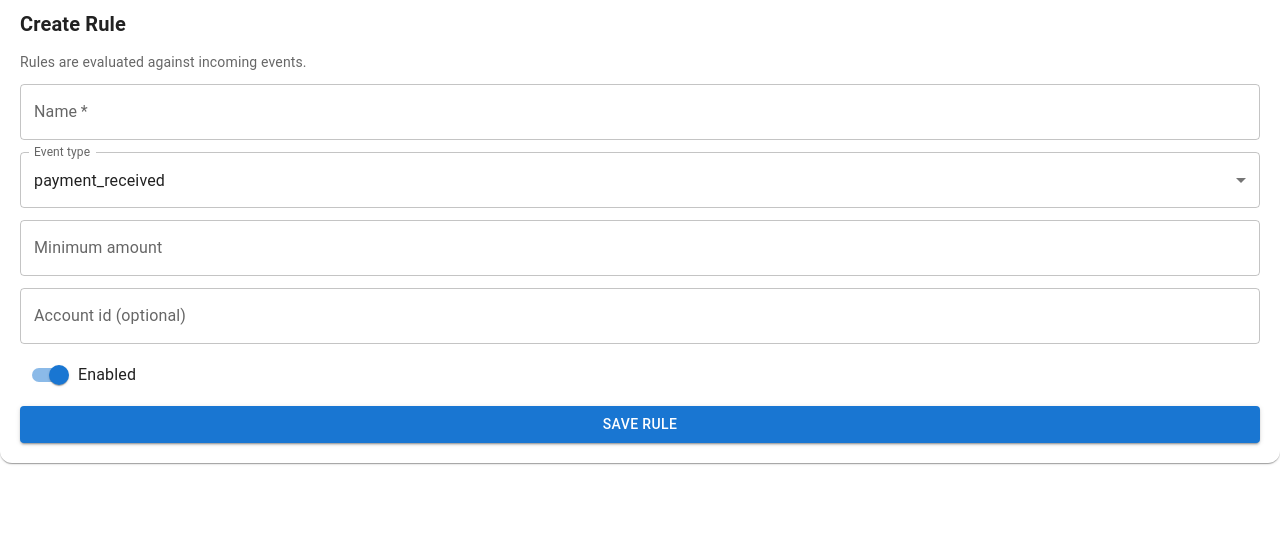
Scenario: RuleForm › shows API error when saveRule fails
Type "Alert Rule" into the field labelled "Name *" at (640, 112), box [20,84,1260,140]
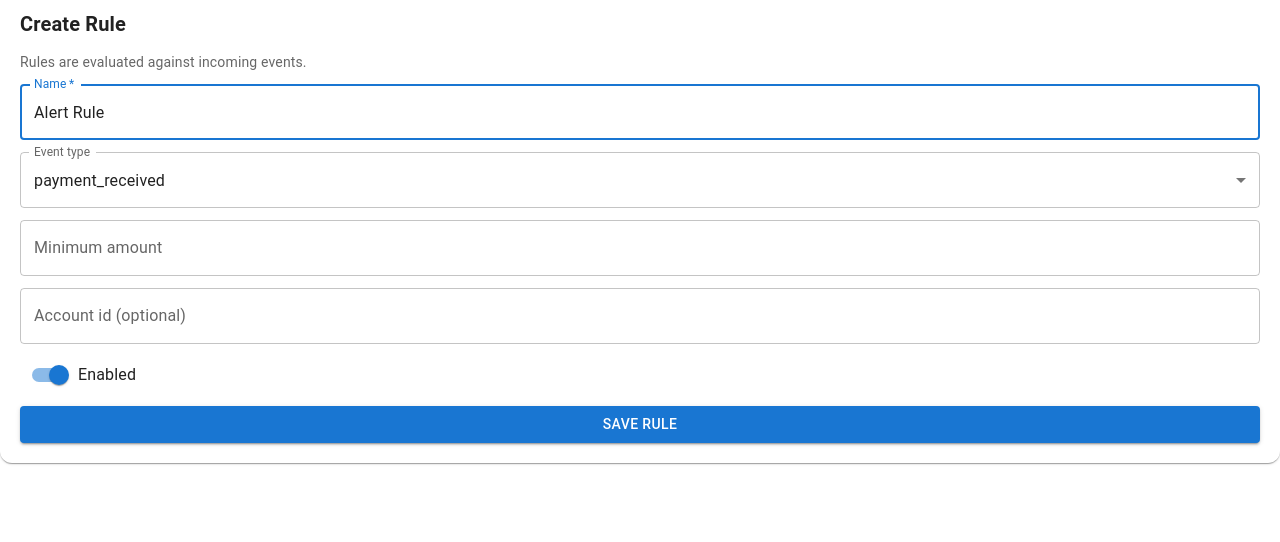
Submit the form named "save rule"
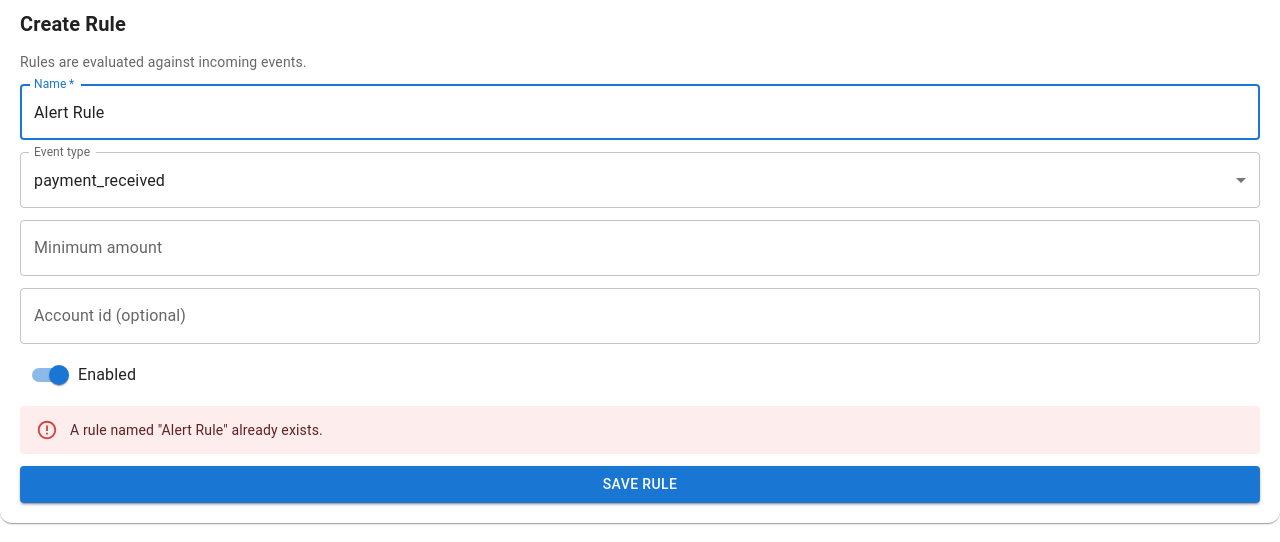
Result: the text "A rule named \"Alert Rule\" already exists." is shown at [70,422,323,438]
